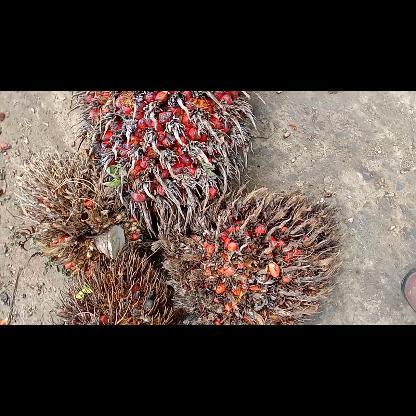Terlalu masak: (62, 90, 262, 235), (162, 184, 346, 324), (11, 143, 146, 280), (56, 246, 178, 324)
